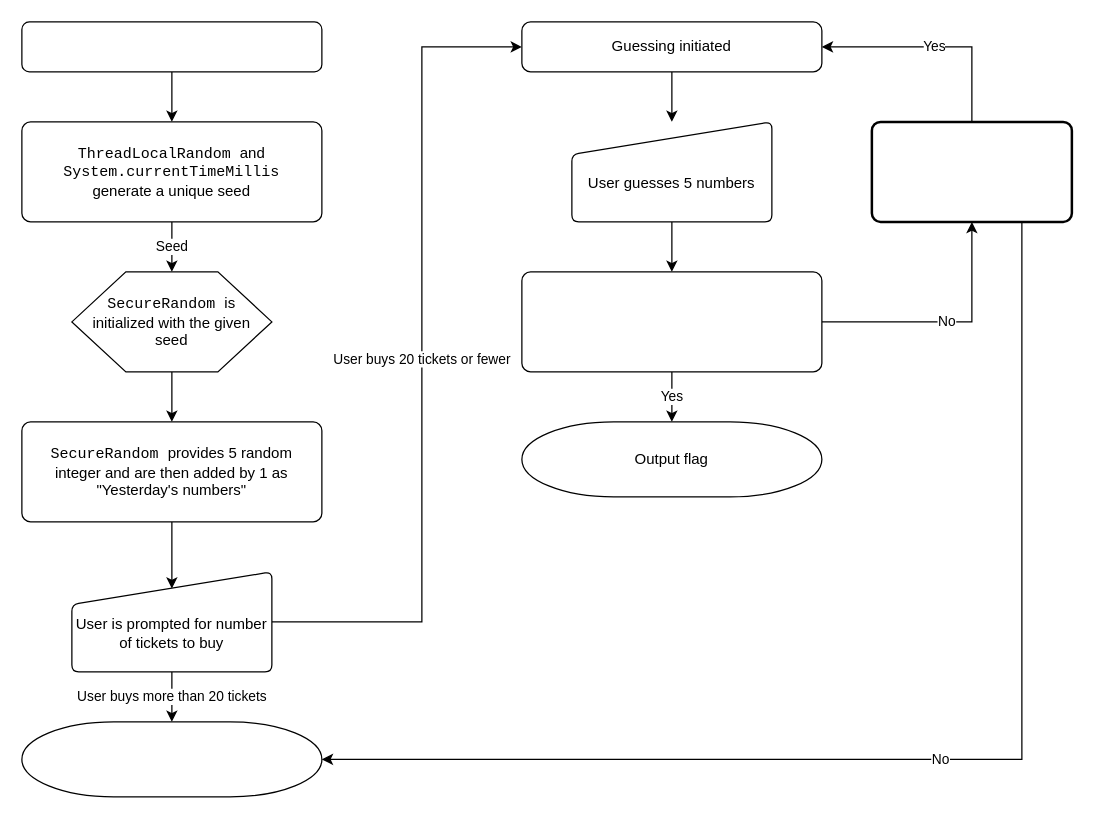
The diagram is 1095 pixels wide and 819 high, and some of its shapes have lost their labels. The shapes that lost their labels are listed below. From the top down, each one's centre as x and y in pixels, then its label:
At point (171, 46): "User connects".
At point (971, 171): "Does the user still have more ticket?".
At point (671, 321): "Do the numbers match the ones generated by SecureRandom?".
At point (171, 759): "Exit".
